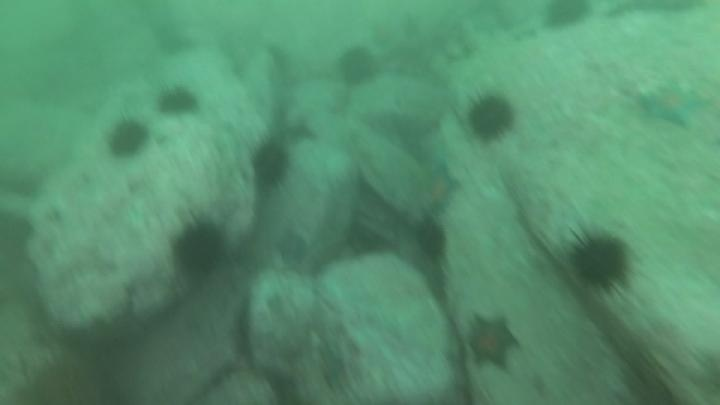echinus: (16, 350, 120, 405), (563, 226, 636, 297), (168, 214, 230, 280), (464, 91, 518, 145), (249, 139, 293, 191), (104, 116, 151, 162), (335, 44, 380, 89), (0, 209, 36, 264), (539, 1, 595, 34), (154, 83, 202, 120), (412, 217, 450, 263)
starfish: (262, 335, 348, 405), (635, 79, 709, 133), (464, 313, 521, 373), (419, 160, 462, 216), (273, 228, 311, 268), (280, 115, 319, 150)
